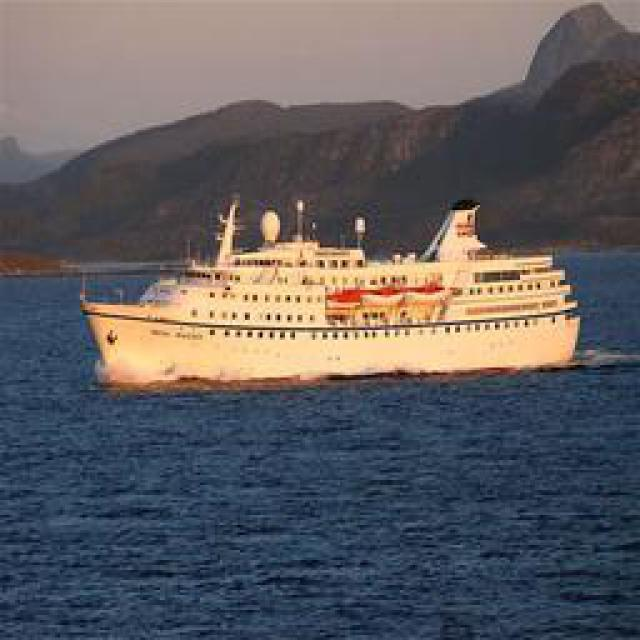Ship: (85, 195, 598, 398)
